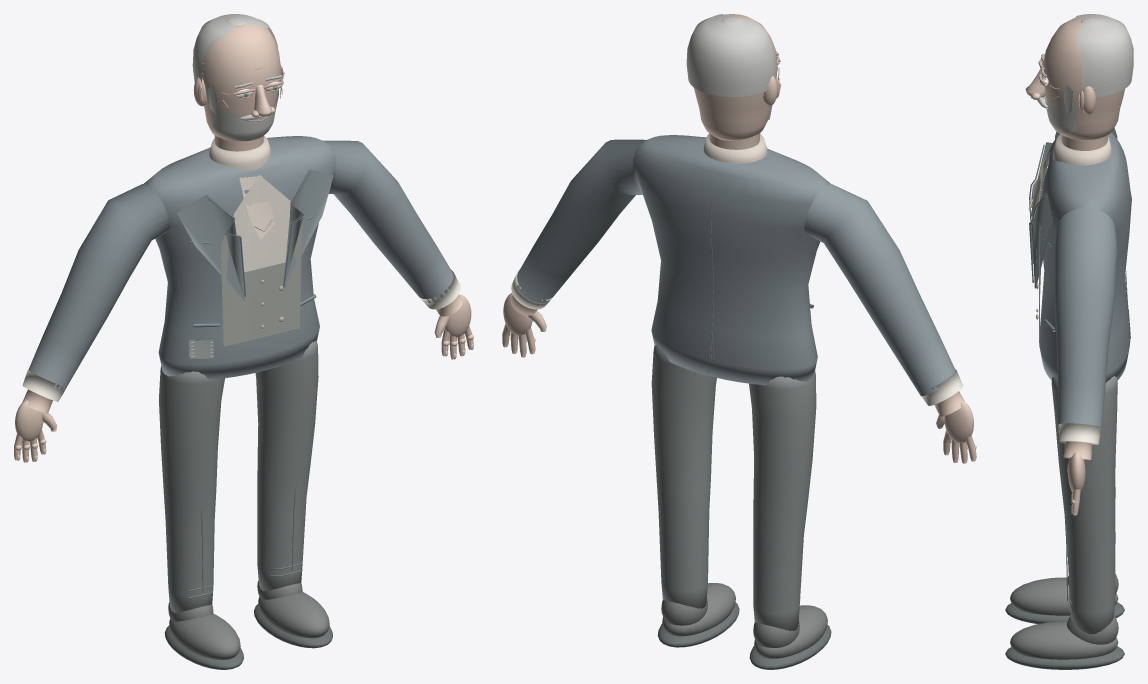
3 renders of one model, left to right at view 1: azimuth 30°, elevation 25°; view 2: azimuth 150°, elevation 25°; view 3: azimuth 270°, elevation 25°, orthographic. The views are drawn at different scales.
Parts seen in each view (by area): view 1: Jacket tailored body, L_trouser_leg, R_trouser_leg, L_sleeve, R_sleeve, Waistcoat front, Head face and skull, Soft shirt front, L_lapel, R_lapel, L_shoe_upper, R_shoe_upper (+8 smaller); view 2: Jacket tailored body, L_trouser_leg, R_trouser_leg, L_sleeve, R_sleeve, Receding combed hair, Head face and skull, L_shoe_upper, R_shoe_upper, R_sole, L_sole, Soft neck wrap (+3 smaller); view 3: R_sleeve, R_trouser_leg, Jacket tailored body, Head face and skull, Receding combed hair, R_shoe_upper, L_shoe_upper, R_sole, R_lapel, Soft neck wrap, R_cuff, L_sole (+11 smaller).
Boxes of the visible parts, x1,y1,x2,y2 form: Jacket tailored body: [144, 136, 336, 379]; L_trouser_leg: [159, 366, 224, 612]; R_trouser_leg: [255, 341, 318, 591]; L_sleeve: [28, 184, 169, 392]; R_sleeve: [323, 140, 453, 302]; Waistcoat front: [220, 192, 302, 346]; Head face and skull: [202, 17, 280, 141]; Soft shirt front: [233, 175, 290, 272]; L_lapel: [176, 194, 244, 300]; R_lapel: [282, 169, 333, 291]; L_shoe_upper: [169, 613, 240, 659]; R_shoe_upper: [258, 592, 329, 638]; Jacket tailored body: [633, 135, 830, 385]; L_trouser_leg: [749, 371, 816, 631]; R_trouser_leg: [651, 345, 716, 608]; L_sleeve: [804, 184, 955, 396]; R_sleeve: [515, 139, 645, 302]; Receding combed hair: [686, 14, 775, 97]; Head face and skull: [694, 14, 777, 140]; L_shoe_upper: [754, 605, 827, 658]; R_shoe_upper: [662, 583, 735, 636]; R_sole: [657, 602, 739, 647]; L_sole: [749, 625, 831, 669]; Soft neck wrap: [703, 133, 767, 163]; R_sleeve: [1054, 208, 1117, 432]; R_trouser_leg: [1051, 376, 1117, 634]; Jacket tailored body: [1039, 132, 1131, 382]; Head face and skull: [1042, 17, 1124, 140]; Receding combed hair: [1075, 14, 1133, 97]; R_shoe_upper: [1010, 621, 1118, 659]; L_shoe_upper: [1010, 577, 1118, 615]; R_sole: [1005, 646, 1124, 669]; R_lapel: [1031, 193, 1052, 288]; Soft neck wrap: [1052, 134, 1112, 165]; R_cuff: [1058, 423, 1100, 445]; L_sole: [1005, 602, 1124, 623].
Bounding box in the file's own units: 1.7 × 2.17 × 0.408.
